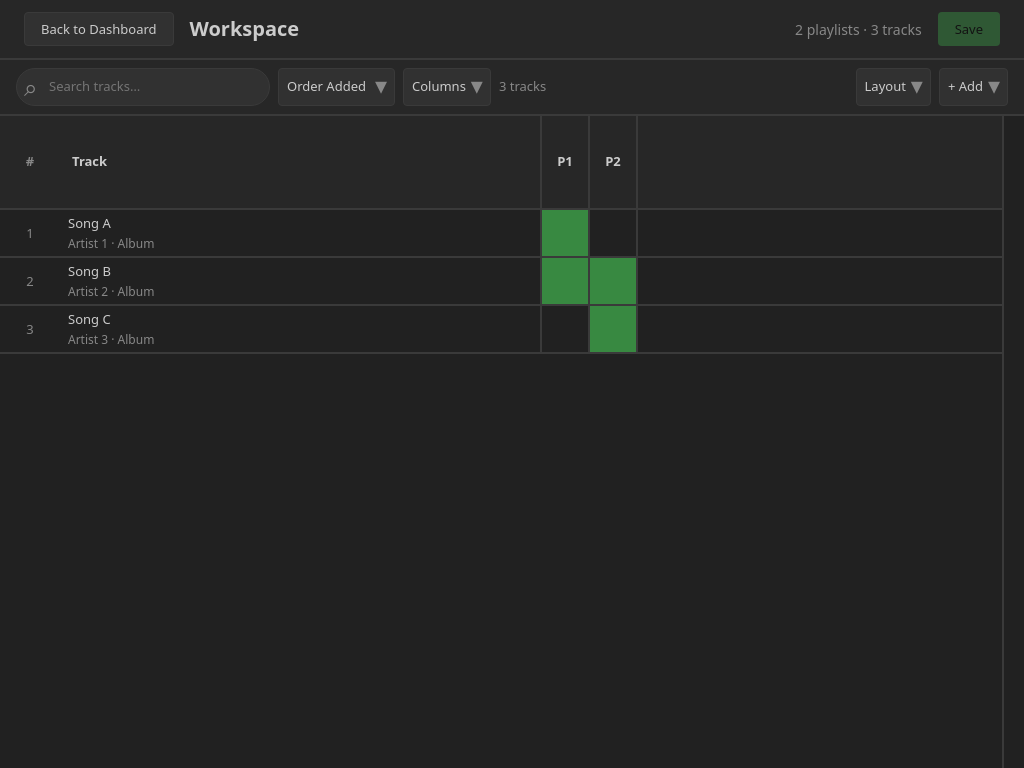
Test: WorkspaceView › updates the rendered row order when trackList order changes after toggleTrack
Click the checkbox named "Song B in PL1" at (564, 281), box [540,258,588,304]
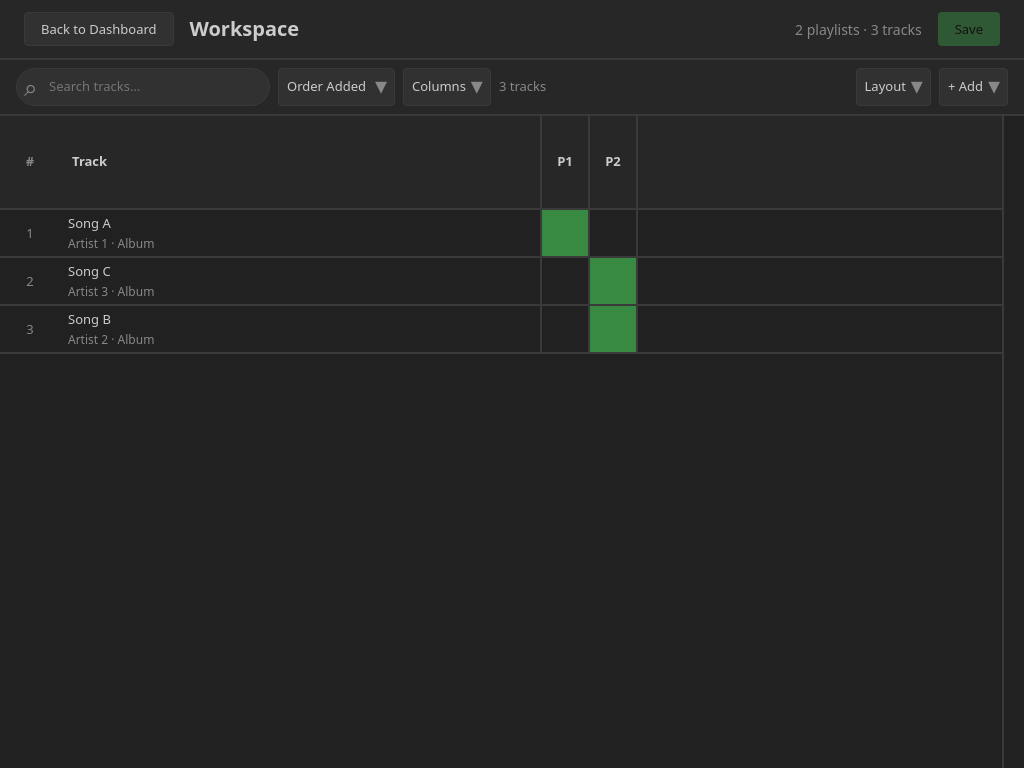
Expected: the elements with class "track-row__title" read "Song A", "Song C", "Song B", in this order, [68,214,111,232]; [68,262,111,280]; [68,310,111,328]
